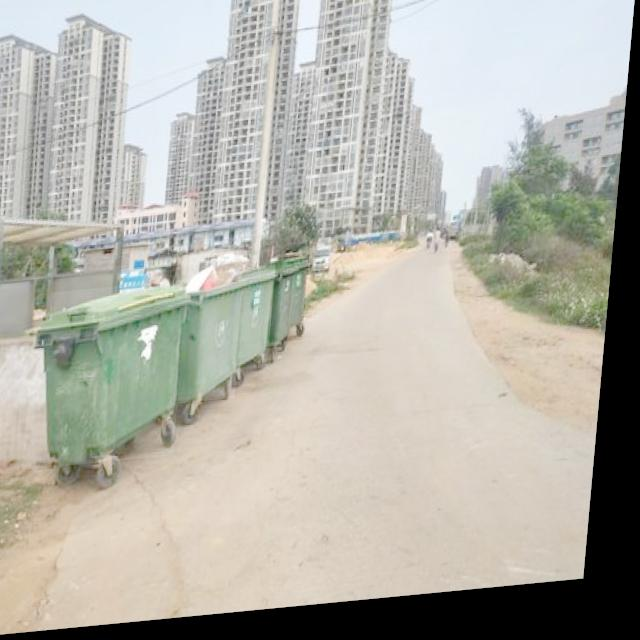garbage_bin: (31, 284, 194, 472), (244, 274, 281, 370), (275, 261, 315, 349)
overflow: (184, 256, 253, 408)
